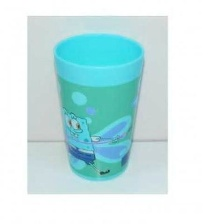glass: (48, 30, 155, 187)
